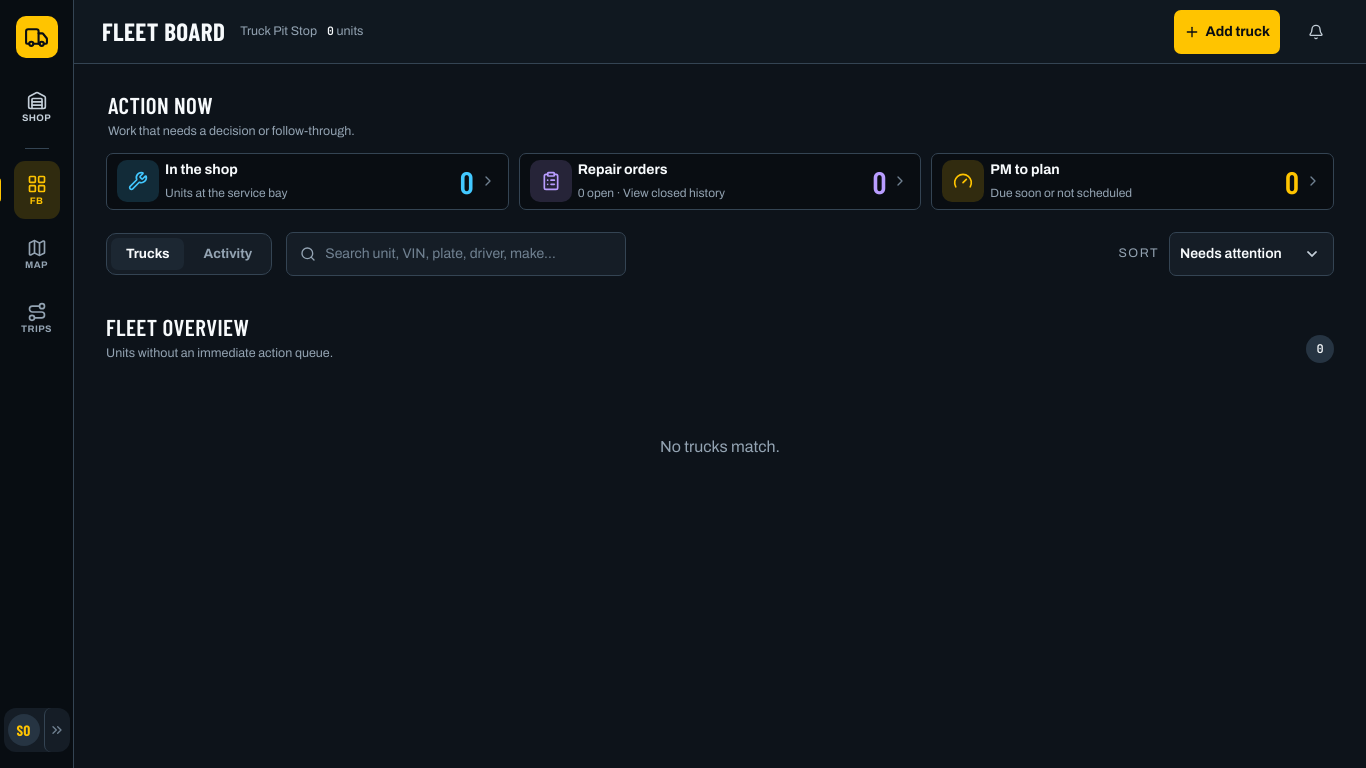
Test: Fleet board return context › opens Fleet map without implying live telemetry or changing the route
Click the button named "Fleet map" at (36, 254), box [14,225,60,283]
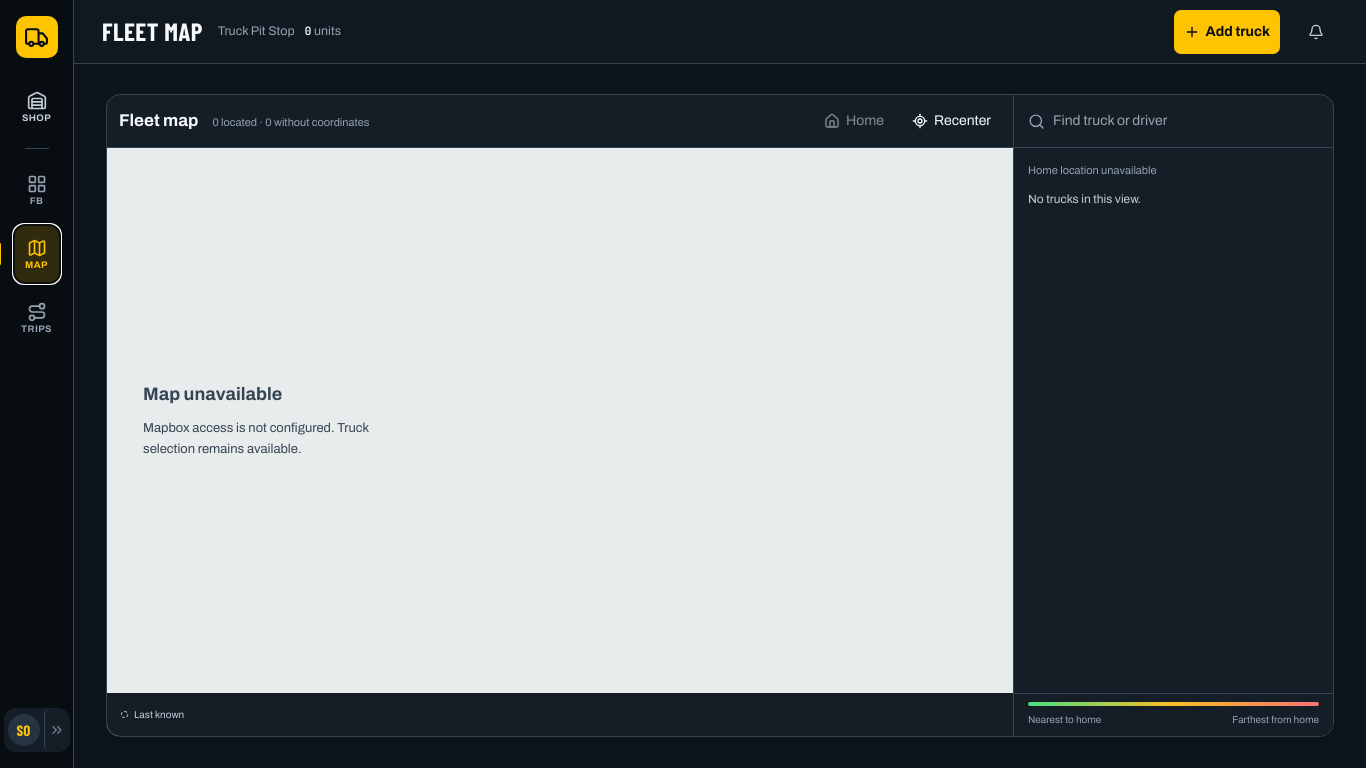
Check: the text with test id "current-location" reads "/fleet", box [0,2,40,22]
Check: the text "Fleet map" next to "Truck Pit Stop" is shown, box [102,16,203,46]
